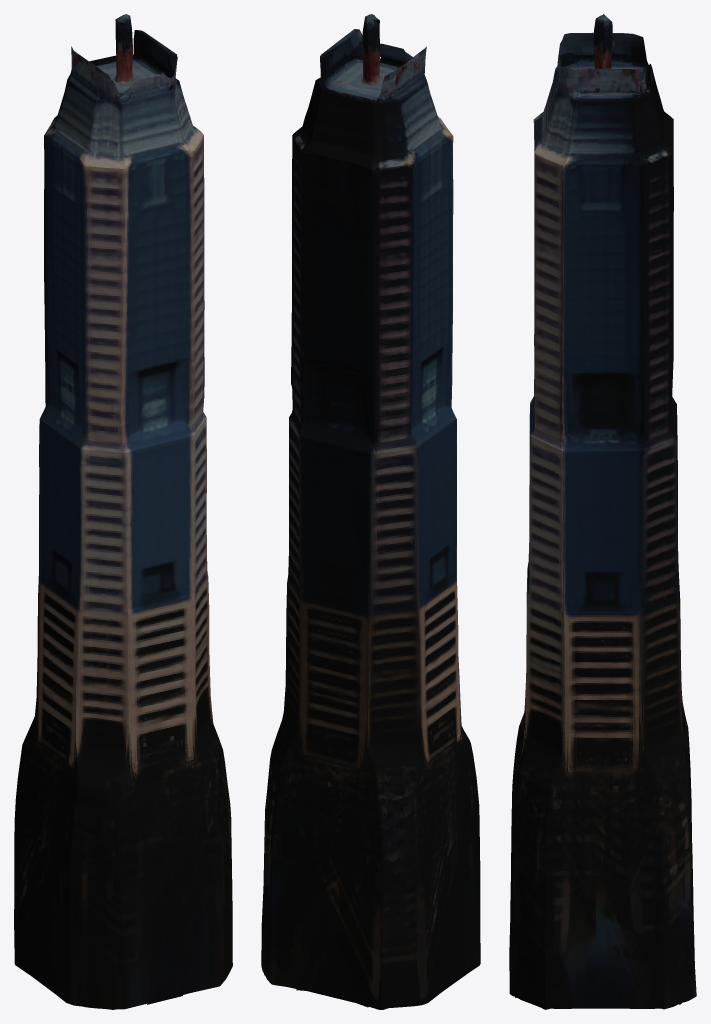
Rendered from repplaza.glb.
3 renders of one model, left to right at view 1: azimuth 30°, elevation 25°; view 2: azimuth 150°, elevation 25°; view 3: azimuth 270°, elevation 25°, orthographic.
Parts seen in each view (by area): view 1: world; view 2: world; view 3: world.
Boxes of the visible parts, box(x1,y1,x2,y2) form: world: box(14, 14, 232, 1009); world: box(261, 14, 480, 1009); world: box(509, 14, 696, 1009).
Bounding box in the file's own units: 0.18 × 1 × 0.1781.
1 material, 1 textured.
